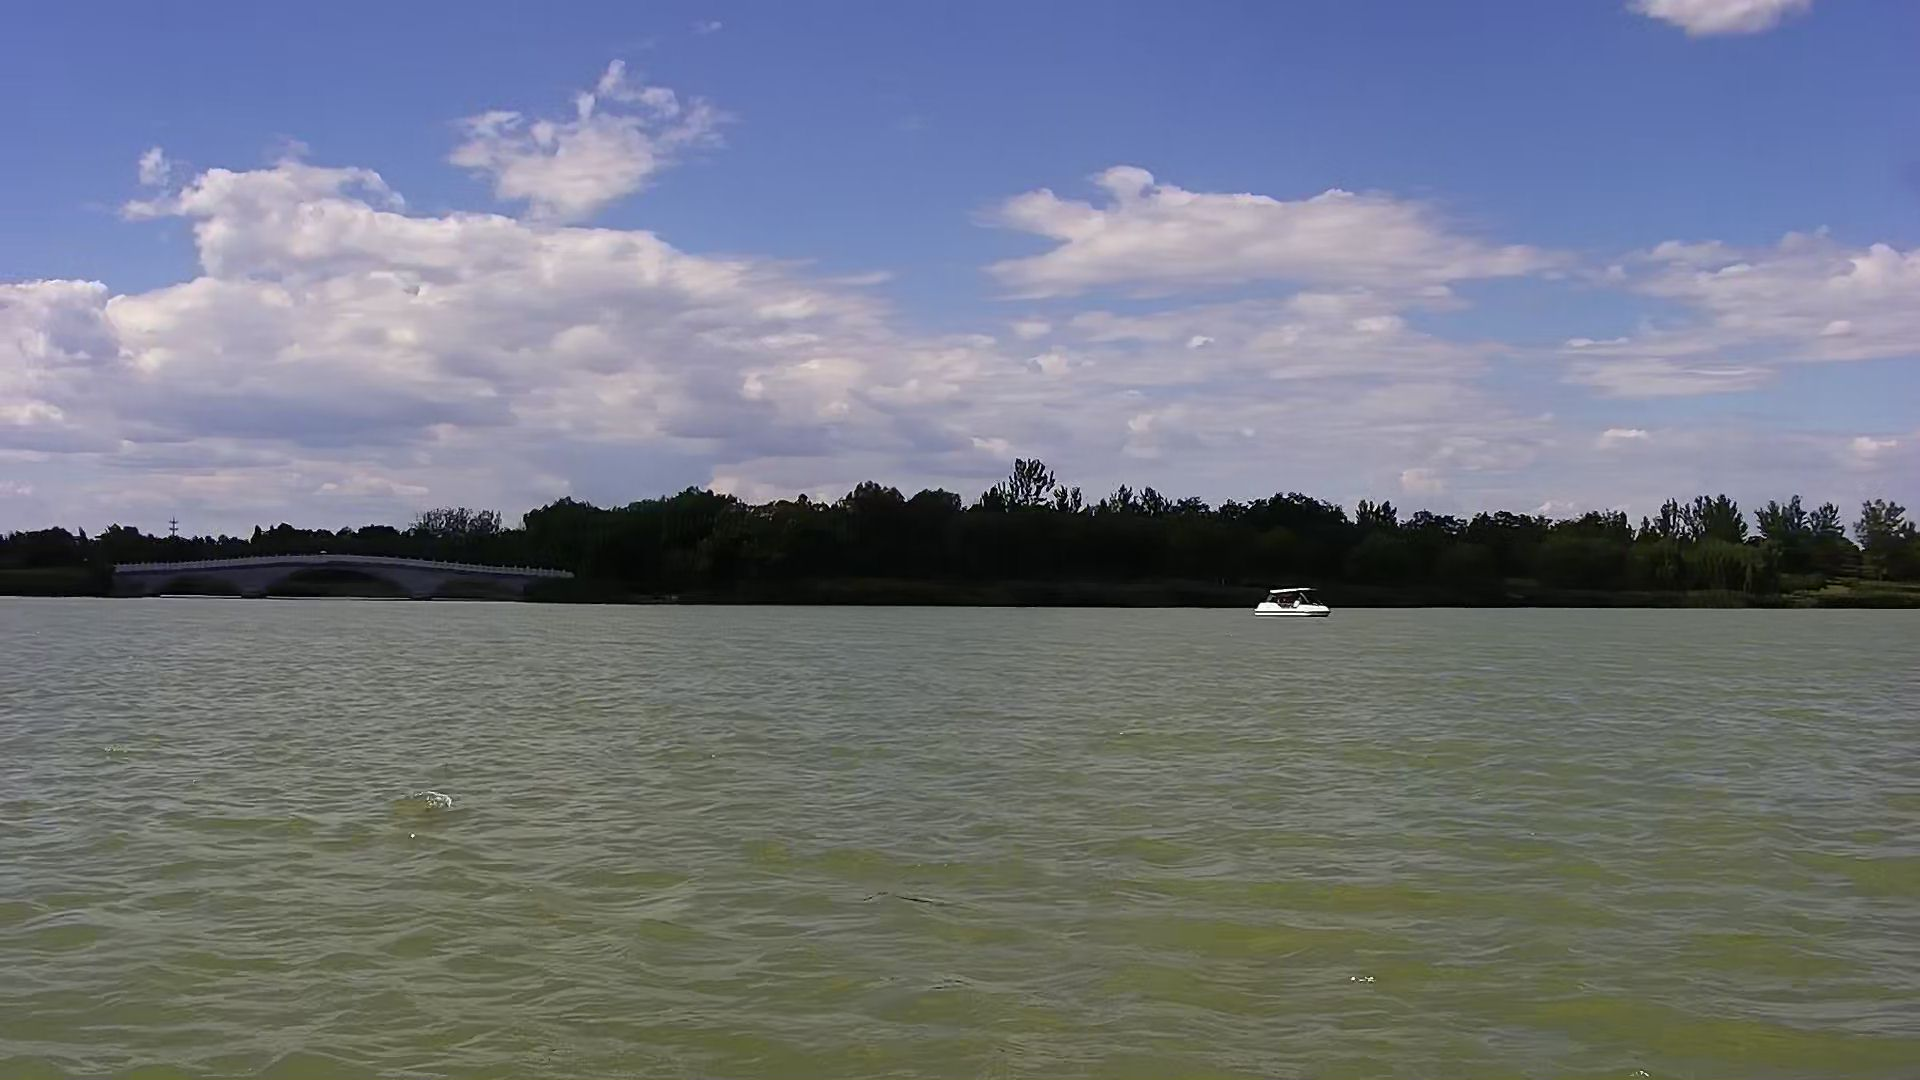boat: (1254, 582, 1335, 629)
bridge: (102, 550, 585, 615)
